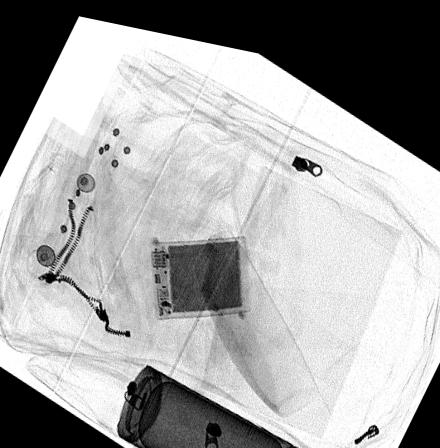Powerbank: (148, 223, 250, 314)
